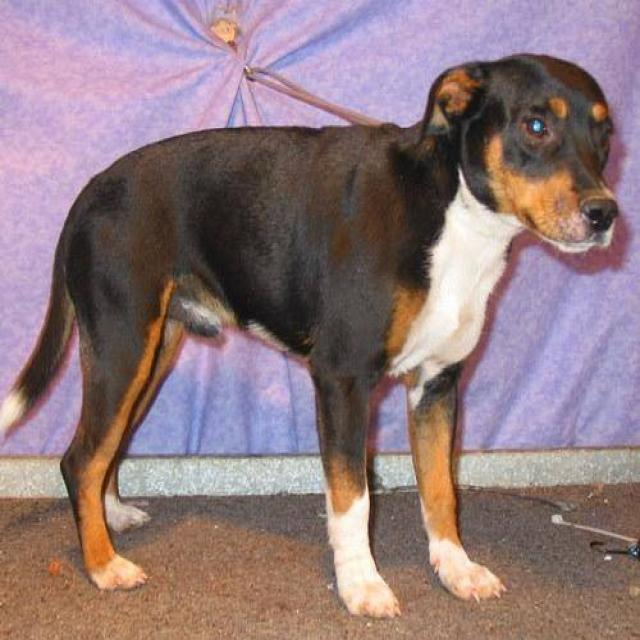dog: (7, 38, 622, 624)
